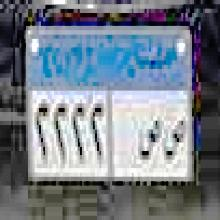2: (70, 100, 88, 169), (33, 98, 51, 166), (89, 101, 106, 166), (52, 100, 69, 165)
saad: (162, 118, 187, 168), (137, 115, 161, 164)
